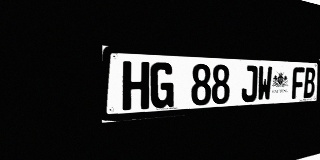8: (191, 63, 212, 106), (211, 64, 230, 105)
B: (303, 67, 315, 98)
F: (292, 67, 305, 99)
G: (150, 62, 174, 109)
H: (122, 61, 149, 111)
J: (241, 65, 258, 102)
W: (257, 66, 272, 101)
